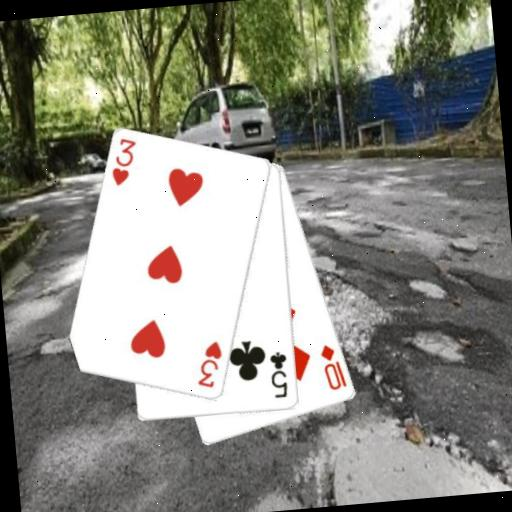10D: (317, 340, 349, 393)
3H: (106, 134, 142, 189), (192, 338, 228, 392)
5C: (267, 349, 292, 401)
